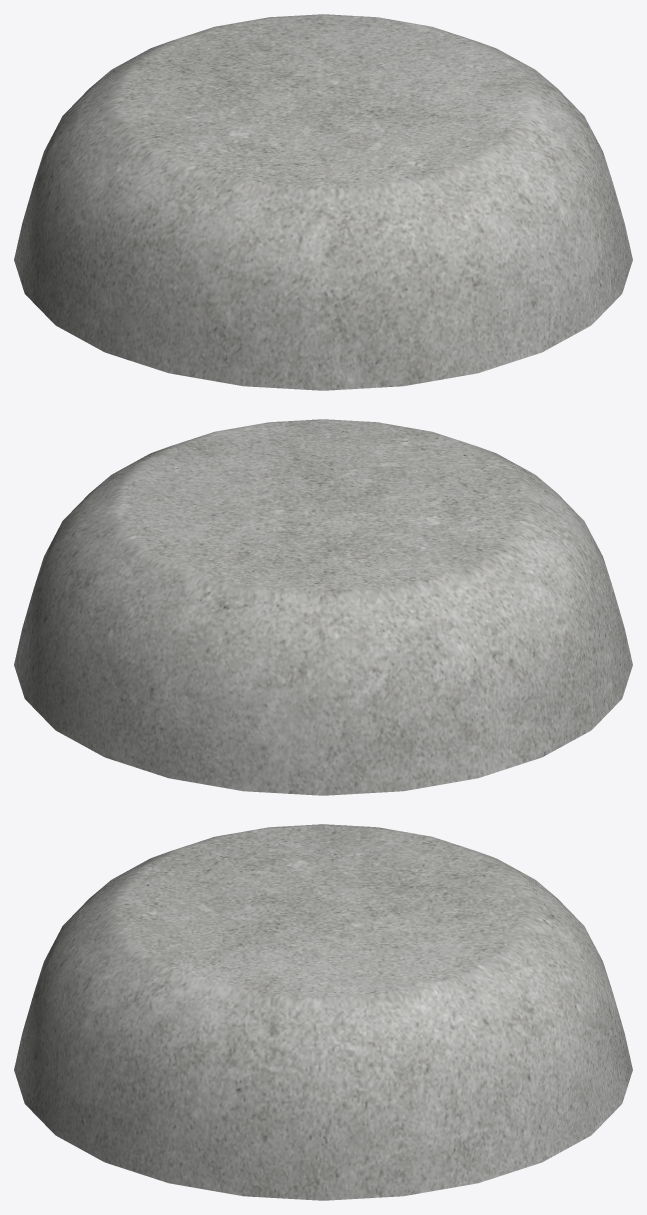
The model's file is SM_SJM_FoundationStoneB_04.fbx.
3 renders of one model, top to bottom at view 1: azimuth 30°, elevation 25°; view 2: azimuth 150°, elevation 25°; view 3: azimuth 270°, elevation 25°, orthographic.
Parts seen in each view (by area): view 1: SM_SJM_FoundationStoneB_04; view 2: SM_SJM_FoundationStoneB_04; view 3: SM_SJM_FoundationStoneB_04.
Boxes of the visible parts, <box> form: SM_SJM_FoundationStoneB_04: <box>14,14,632,390</box>; SM_SJM_FoundationStoneB_04: <box>14,419,632,795</box>; SM_SJM_FoundationStoneB_04: <box>14,824,632,1200</box>.
Bounding box in the file's own units: 86.85 × 86.85 × 24.57.
Materials: 1 (1 with a texture image).
